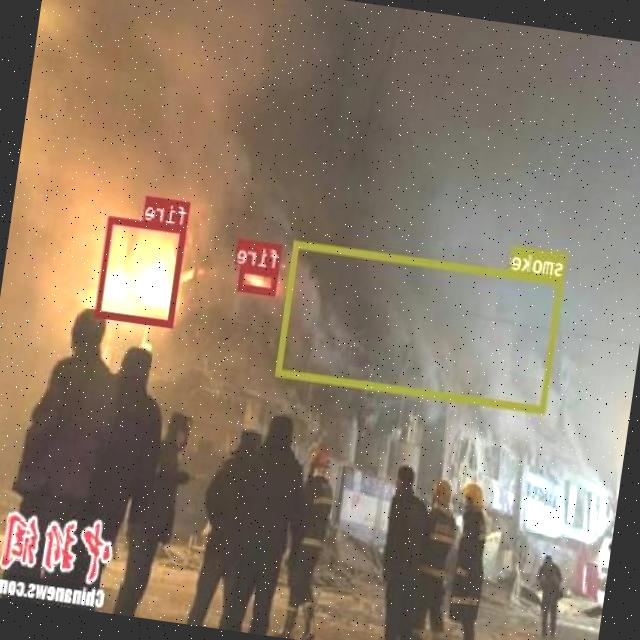fire: (95, 215, 188, 327), (239, 264, 280, 294)
smoke: (276, 239, 566, 412)
